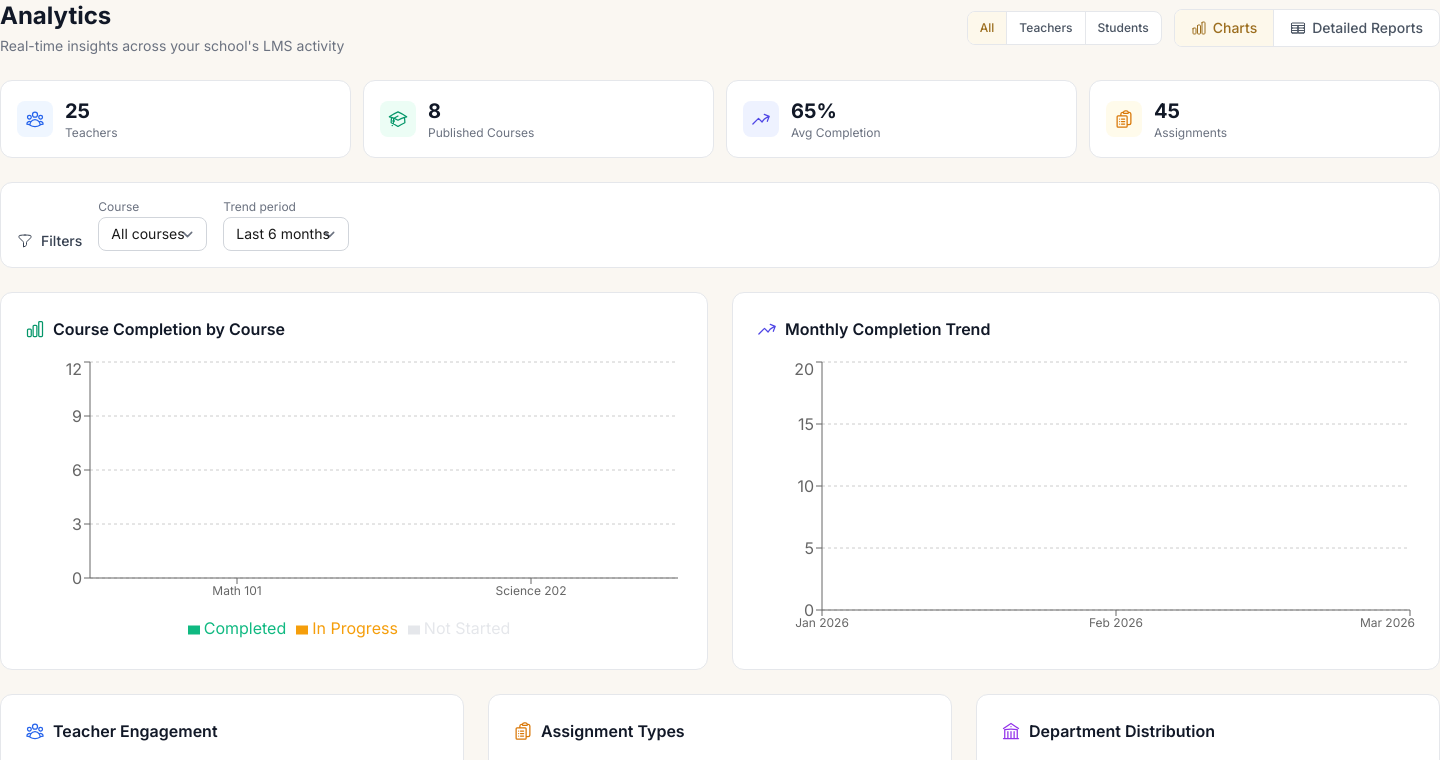
Test case: AnalyticsPage › filters › shows Clear button when a course is selected
Select "Math 101" in the 1st dropdown at (153,234), box [98,217,207,251]
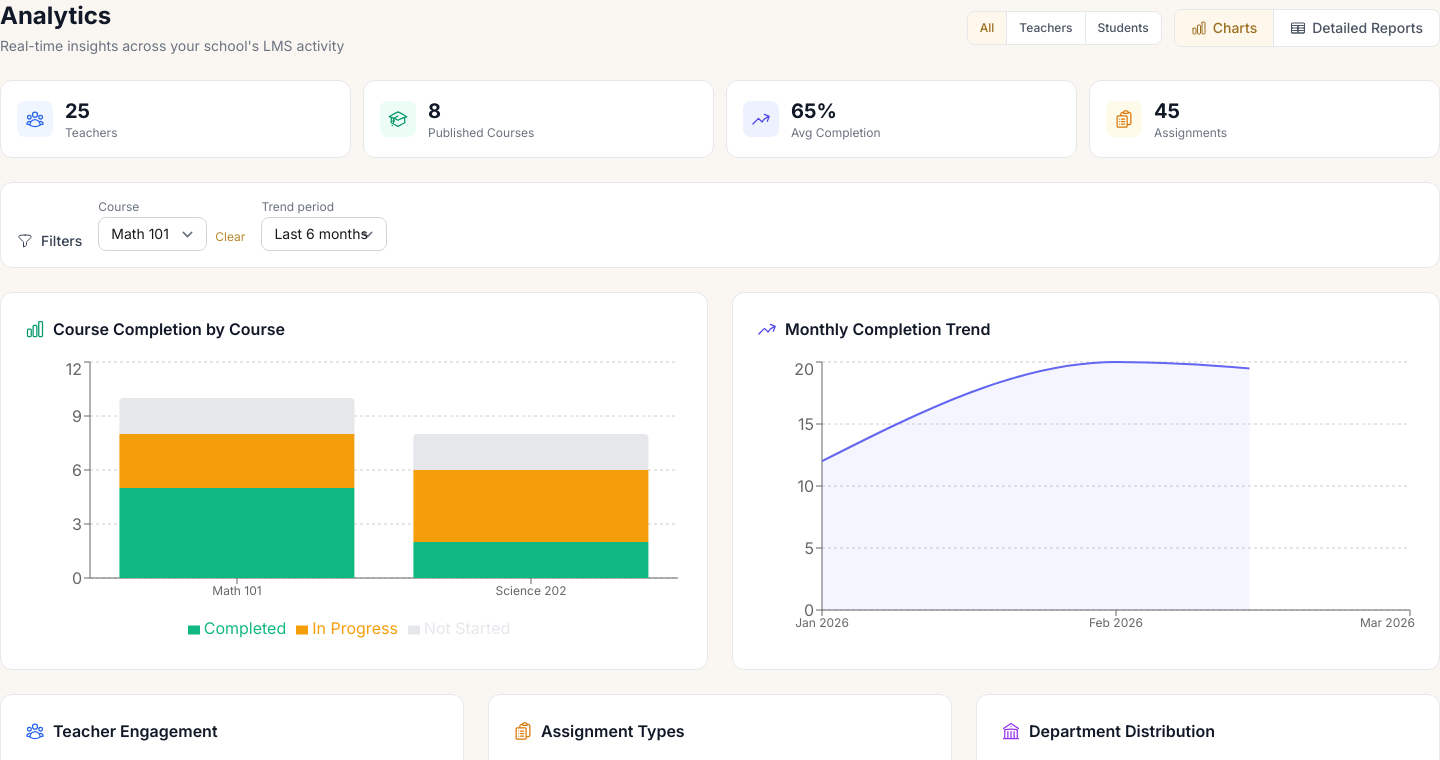
Expected: the button "Clear" is shown, [215,229,245,251]
